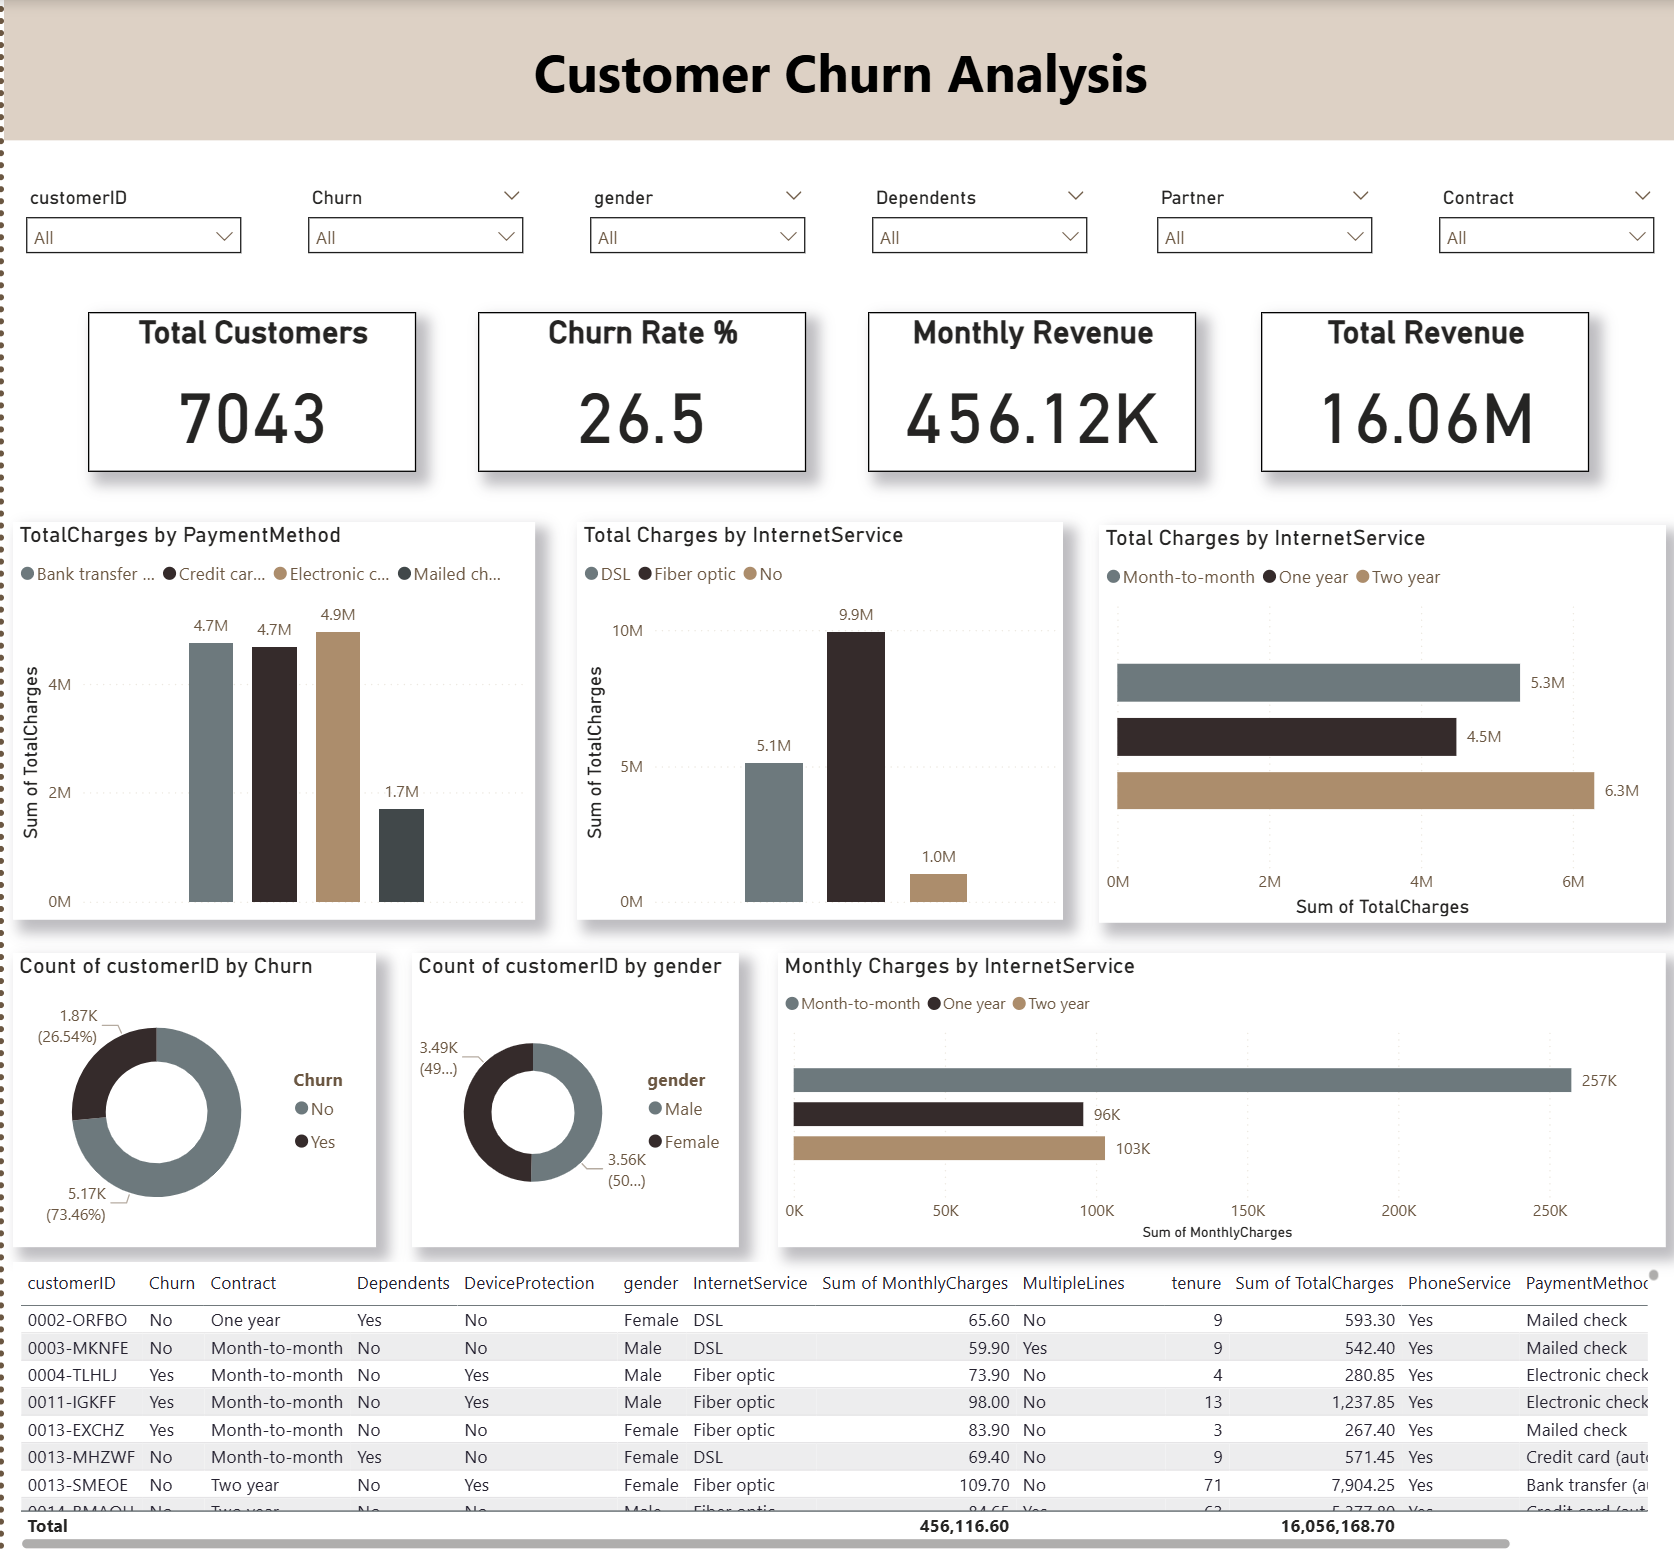

The page's visual inventory and layout, read from the dashboard file:
{"tool":"powerbi","page":{"name":"Page 1","canvas":[1280,1200],"ordinal":0},"visuals":[{"type":"shape","box":[0,0,1280,107.4],"z":0},{"type":"card","title":"Total Customers","fields":{"Values":["CountNonNull(churn_data_raw.customerID)"]},"box":[64.3,238.6,251,122.4],"z":1000},{"type":"card","title":"Churn Rate %","fields":{"Values":["Sum(churn_data_raw.Churn %)"]},"box":[363,238.6,251,122.4],"z":2000},{"type":"card","title":"Monthly Revenue","fields":{"Values":["Sum(churn_data_raw.MonthlyCharges)"]},"box":[661.8,238.6,251,122.4],"z":3000},{"type":"card","title":"Total Revenue","fields":{"Values":["Sum(churn_data_raw.TotalCharges)"]},"box":[960.5,238.6,251,122.4],"z":4000},{"type":"slicer","fields":{"Values":["churn_data_raw.customerID"]},"box":[6.2,136.9,184.6,78.8],"z":4001},{"type":"slicer","fields":{"Values":["churn_data_raw.Churn"]},"box":[222.4,136.9,184.6,78.8],"z":4002},{"type":"slicer","fields":{"Values":["churn_data_raw.gender"]},"box":[438.6,136.9,184.6,78.8],"z":4003},{"type":"slicer","fields":{"Values":["churn_data_raw.Contract"]},"box":[1087.1,136.9,184.6,78.8],"z":4004},{"type":"slicer","fields":{"Values":["churn_data_raw.Partner"]},"box":[870.9,136.9,184.6,78.8],"z":4005},{"type":"slicer","fields":{"Values":["churn_data_raw.Dependents"]},"box":[654.7,136.9,184.6,78.8],"z":4006},{"type":"donutChart","fields":{"Category":["churn_data_raw.Churn"],"Y":["CountNonNull(churn_data_raw.customerID)"]},"box":[6.9,729.6,277.6,224.9],"z":4007},{"type":"donutChart","fields":{"Category":["churn_data_raw.gender"],"Y":["CountNonNull(churn_data_raw.customerID)"]},"box":[312,729.6,250.1,224.9],"z":4008},{"type":"clusteredColumnChart","title":"TotalCharges by PaymentMethod","fields":{"Y":["Sum(churn_data_raw.TotalCharges)"],"Series":["churn_data_raw.PaymentMethod"]},"box":[6.9,399.2,399.2,305.2],"z":4009},{"type":"clusteredColumnChart","title":"Total Charges by InternetService","fields":{"Y":["Sum(churn_data_raw.TotalCharges)"],"Series":["churn_data_raw.InternetService"]},"box":[438.2,399.2,371.7,305.2],"z":4010},{"type":"clusteredBarChart","title":"Total Charges by InternetService","fields":{"Y":["Sum(churn_data_raw.TotalCharges)"],"Series":["churn_data_raw.Contract"]},"box":[837.5,401.5,433.7,305.2],"z":4011},{"type":"tableEx","fields":{"Values":["churn_data_raw.customerID","churn_data_raw.Churn","churn_data_raw.Contract","churn_data_raw.Dependents","churn_data_raw.DeviceProtection","churn_data_raw.gender","churn_data_raw.InternetService","Sum(churn_data_raw.MonthlyCharges)","churn_data_raw.MultipleLines","churn_data_raw.tenure","Sum(churn_data_raw.TotalCharges)","churn_data_raw.PhoneService"]},"box":[6.9,966,1264.2,224.9],"z":4012},{"type":"clusteredBarChart","title":"Monthly Charges by InternetService","fields":{"Y":["Sum(churn_data_raw.MonthlyCharges)"],"Series":["churn_data_raw.Contract"]},"box":[592,729.6,679.2,224.9],"z":4013}]}

Visuals, with their boxes in screenshot pixels (x1, y1, x2, y2), scaled from the page's 1280x1200 canvas onto the 1674x1554 screenshot:
shape: (x1=0, y1=0, x2=1673, y2=139)
"Total Customers" card: (x1=84, y1=309, x2=412, y2=467)
"Churn Rate %" card: (x1=475, y1=309, x2=803, y2=467)
"Monthly Revenue" card: (x1=866, y1=309, x2=1194, y2=467)
"Total Revenue" card: (x1=1256, y1=309, x2=1584, y2=467)
slicer - churn_data_raw.customerID: (x1=8, y1=177, x2=250, y2=279)
slicer - churn_data_raw.Churn: (x1=291, y1=177, x2=532, y2=279)
slicer - churn_data_raw.gender: (x1=574, y1=177, x2=815, y2=279)
slicer - churn_data_raw.Contract: (x1=1422, y1=177, x2=1663, y2=279)
slicer - churn_data_raw.Partner: (x1=1139, y1=177, x2=1380, y2=279)
slicer - churn_data_raw.Dependents: (x1=856, y1=177, x2=1098, y2=279)
donutChart - churn_data_raw.Churn x CountNonNull(churn_data_raw.customerID): (x1=9, y1=945, x2=372, y2=1236)
donutChart - churn_data_raw.gender x CountNonNull(churn_data_raw.customerID): (x1=408, y1=945, x2=735, y2=1236)
"TotalCharges by PaymentMethod" clusteredColumnChart: (x1=9, y1=517, x2=531, y2=912)
"Total Charges by InternetService" clusteredColumnChart: (x1=573, y1=517, x2=1059, y2=912)
"Total Charges by InternetService" clusteredBarChart: (x1=1095, y1=520, x2=1662, y2=915)
tableEx - churn_data_raw.customerID x churn_data_raw.Churn: (x1=9, y1=1251, x2=1662, y2=1542)
"Monthly Charges by InternetService" clusteredBarChart: (x1=774, y1=945, x2=1662, y2=1236)
